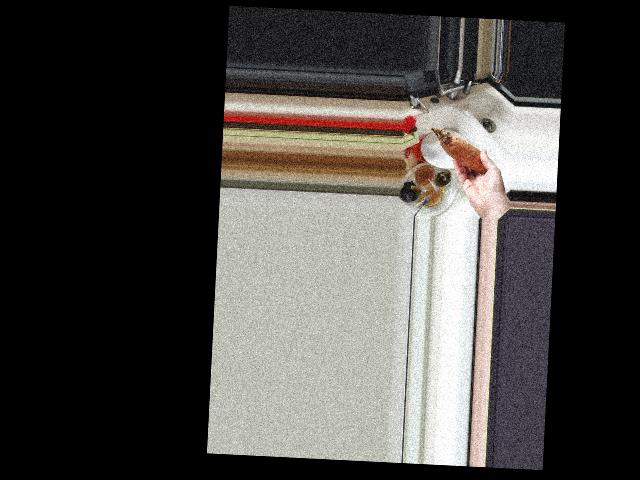sweet_potato: (427, 126, 493, 178)
